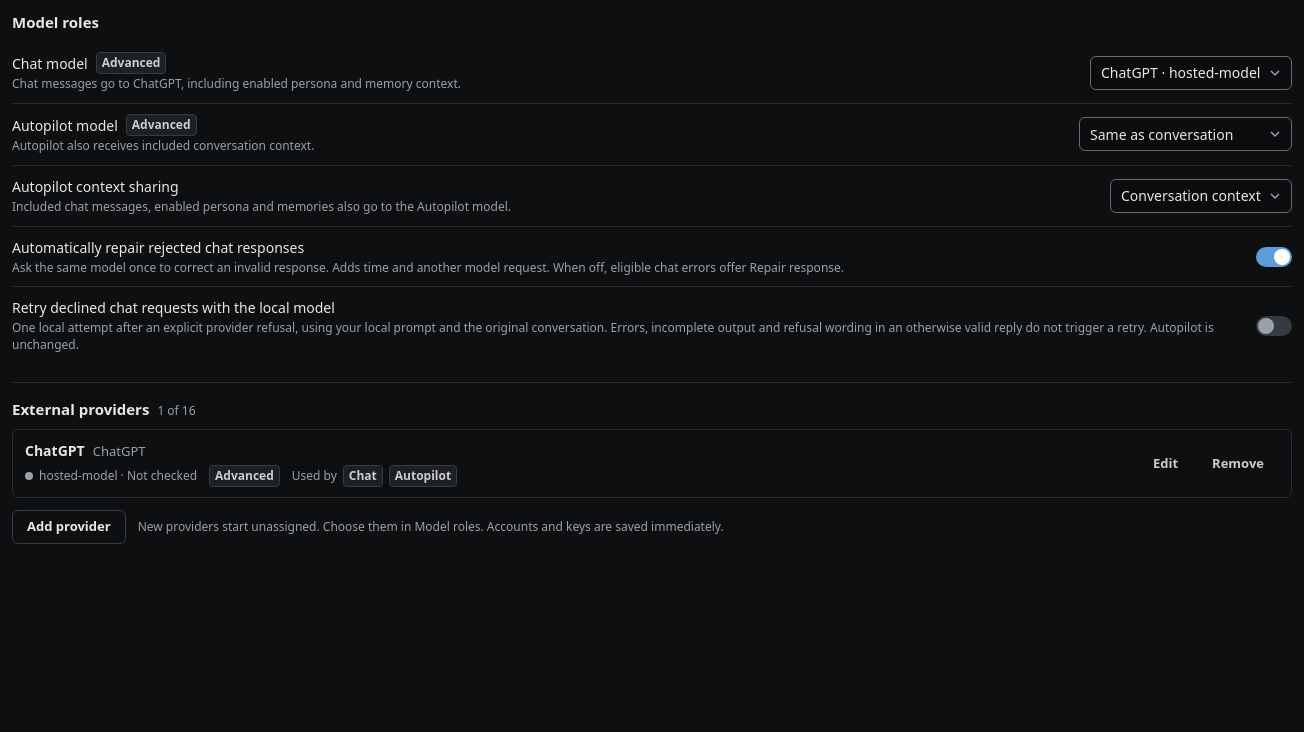
model roles and external providers › keeps repair available and second opinion hidden for advanced connections
Expected: the checkbox labelled "Automatically repair" is checked, x1=12 y1=226 x2=1292 y2=286
Expected: the dropdown labelled "Second opinion" is not shown
Select "Local model" in the dropdown labelled "Autopilot model" at (1186, 134), box x1=1079 y1=117 x2=1292 y2=151
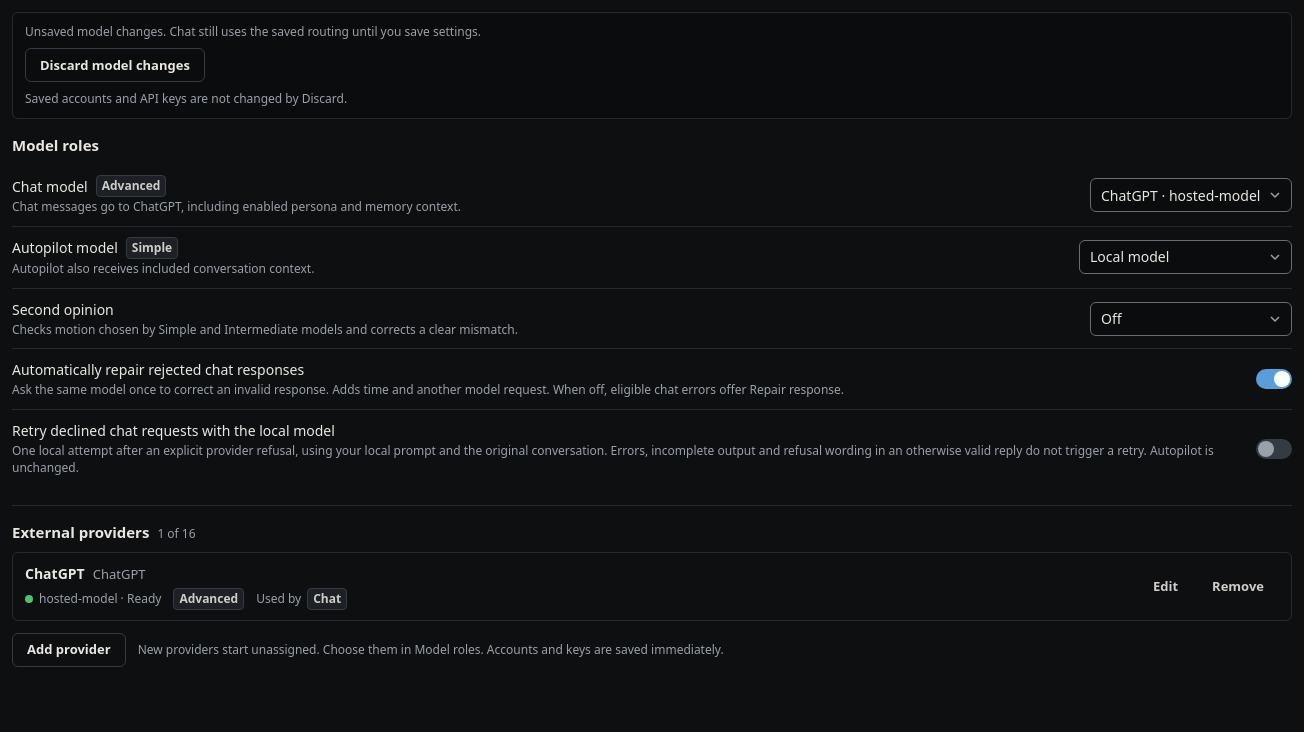
Expected: the checkbox labelled "Automatically repair" is checked, x1=12 y1=348 x2=1292 y2=409
Now the dropdown labelled "Second opinion" shows "Off", box x1=1090 y1=302 x2=1292 y2=336
